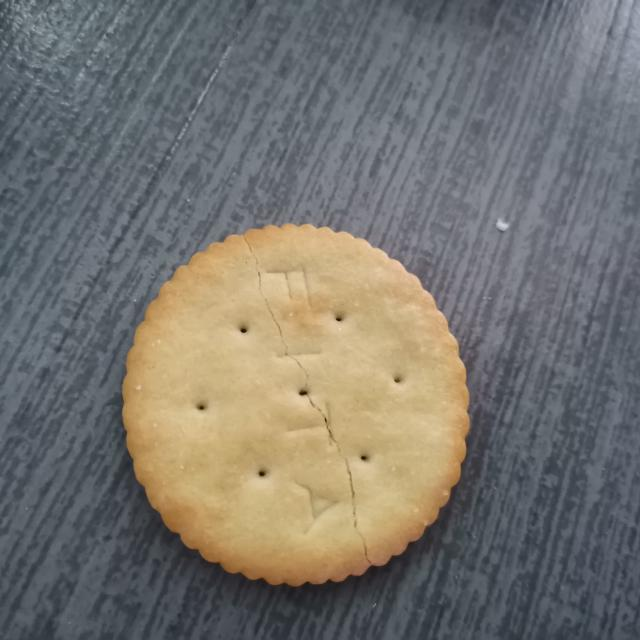Fracture: (226, 230, 385, 577)
